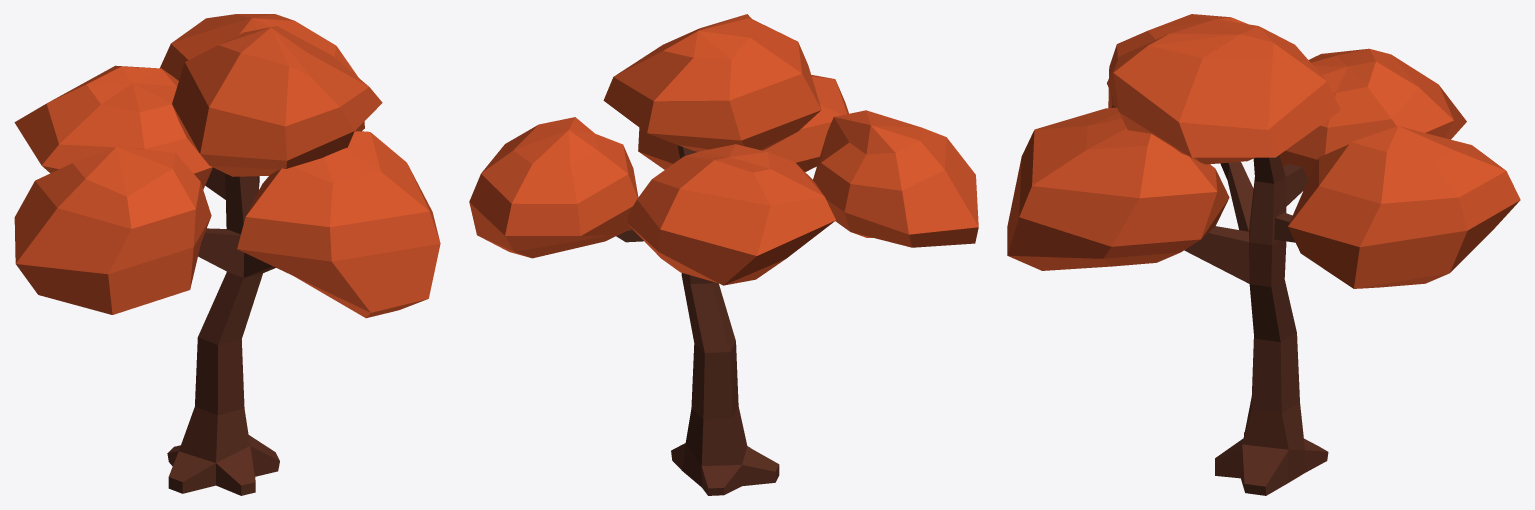
File: Tree.fbx
3 views of the same model, side by side, from view 1: azimuth 30°, elevation 25°; view 2: azimuth 150°, elevation 25°; view 3: azimuth 270°, elevation 25° (orthographic). The views are drawn at different scales.
Visible parts, largest first — view 1: Sphere.005, Sphere, Sphere.003, Cylinder.010, Sphere.002, Sphere.004; view 2: Sphere.003, Sphere.002, Sphere.004, Sphere.005, Cylinder.010, Sphere; view 3: Sphere.004, Sphere, Sphere.003, Cylinder.010, Sphere.002, Sphere.005.
Boxes of the visible parts, x1,y1,x2,y2 form: Sphere.005: (14, 147, 211, 314); Sphere: (237, 130, 440, 318); Sphere.003: (172, 26, 382, 176); Cylinder.010: (167, 167, 279, 495); Sphere.002: (14, 65, 212, 189); Sphere.004: (160, 14, 364, 131); Sphere.003: (603, 14, 821, 151); Sphere.002: (627, 144, 835, 285); Sphere.004: (469, 117, 638, 258); Sphere.005: (813, 110, 978, 247); Cylinder.010: (616, 145, 779, 495); Sphere: (638, 75, 848, 172); Sphere.004: (1288, 126, 1520, 288); Sphere: (1007, 107, 1229, 270); Sphere.003: (1107, 19, 1340, 164); Cylinder.010: (1184, 155, 1328, 495); Sphere.002: (1279, 48, 1466, 179); Sphere.005: (1108, 14, 1247, 107).
Bounding box in the file's own units: 657 × 662 × 675.
